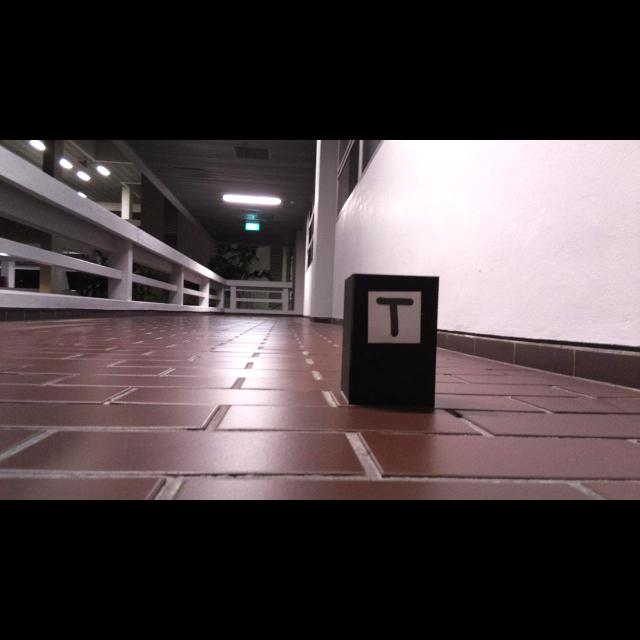T: (376, 296, 413, 336)
